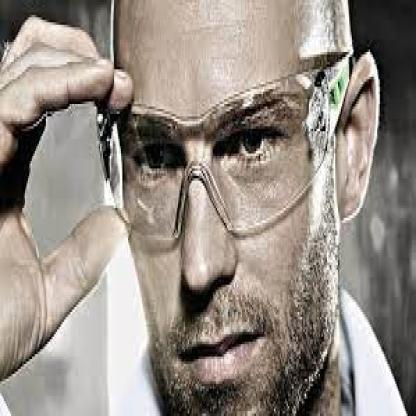oculos: (98, 67, 333, 240)
